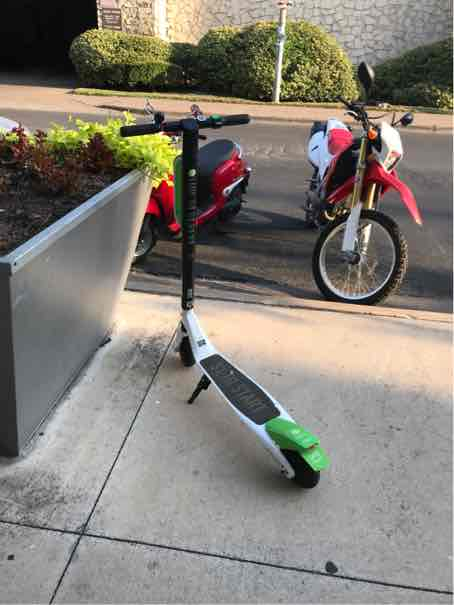scooter: (119, 114, 330, 484)
